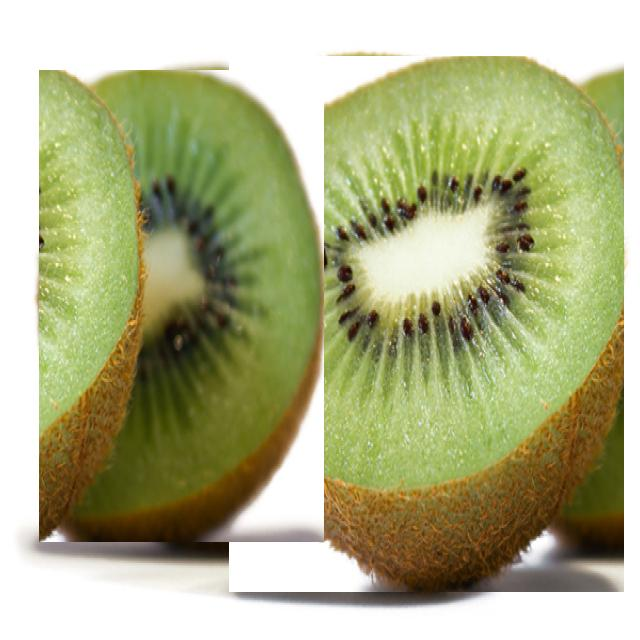Qiwi: (229, 56, 624, 592), (39, 70, 324, 542)
